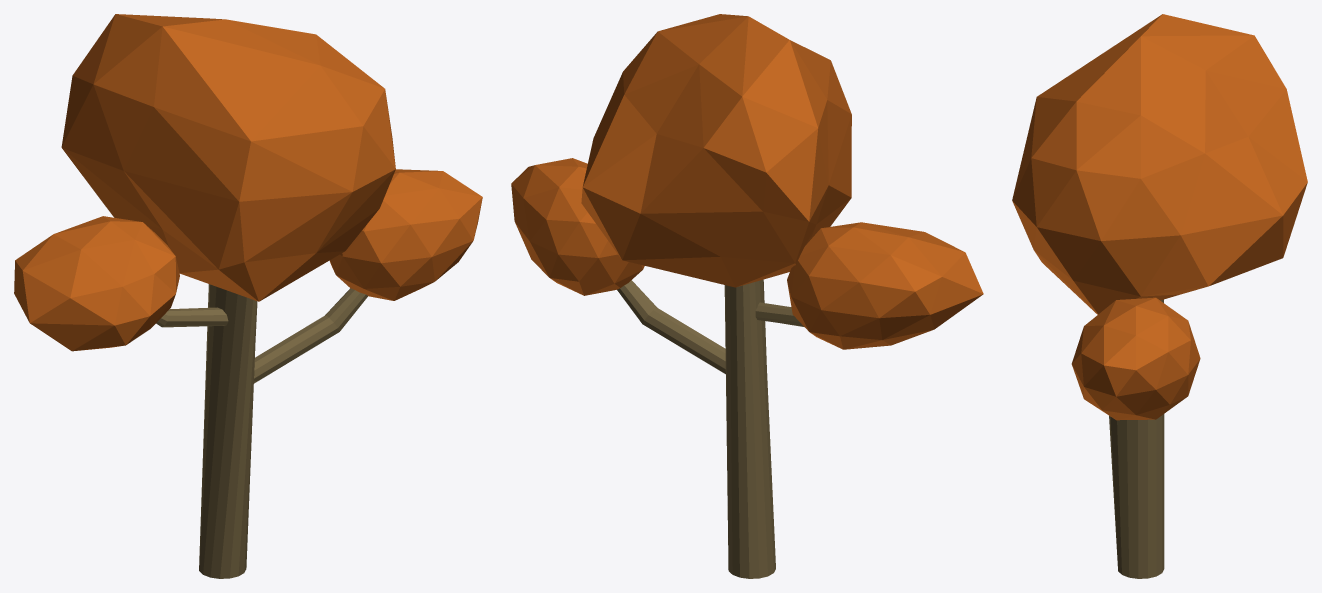
File: orange_tree_2.fbx
The picture shows the model from 3 angles, left to right: view 1: azimuth 30°, elevation 25°; view 2: azimuth 150°, elevation 25°; view 3: azimuth 270°, elevation 25°; orthographic projection. The views are drawn at different scales.
Visible parts, largest first — view 1: tree_3; view 2: tree_3; view 3: tree_3.
Part boxes in pixels (x1,y1,x2,y2): tree_3: [14, 14, 482, 578]; tree_3: [511, 14, 983, 578]; tree_3: [1012, 14, 1307, 578].
Size of the model in its own units: 4538 by 5239 by 2627.
